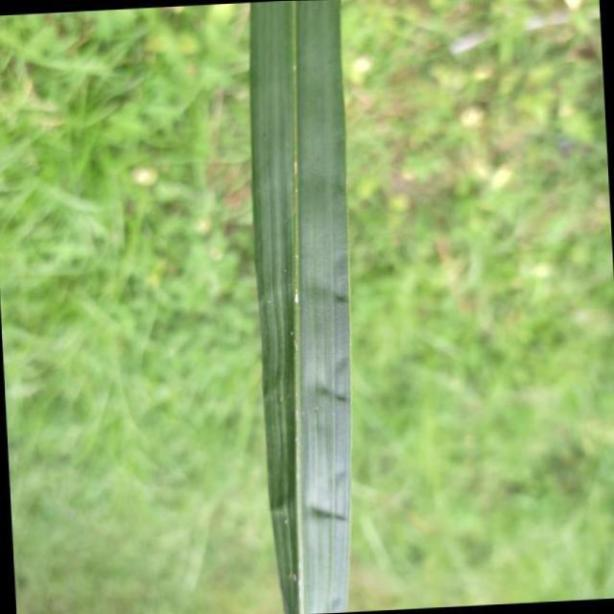Boron: (249, 0, 352, 614)
